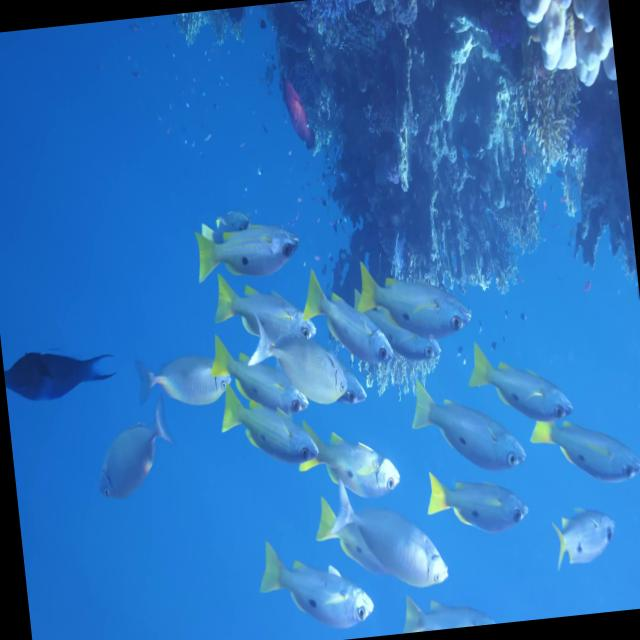fish: (326, 469, 449, 595), (255, 537, 376, 640), (410, 379, 530, 477), (293, 409, 403, 505), (250, 306, 350, 410), (465, 342, 577, 433), (355, 260, 472, 346), (528, 401, 640, 489), (193, 207, 305, 289), (302, 274, 396, 370), (214, 329, 308, 424), (94, 407, 179, 502), (221, 385, 318, 468), (426, 464, 530, 536), (215, 272, 314, 346), (2, 347, 115, 408), (133, 343, 232, 409), (553, 506, 619, 569)
